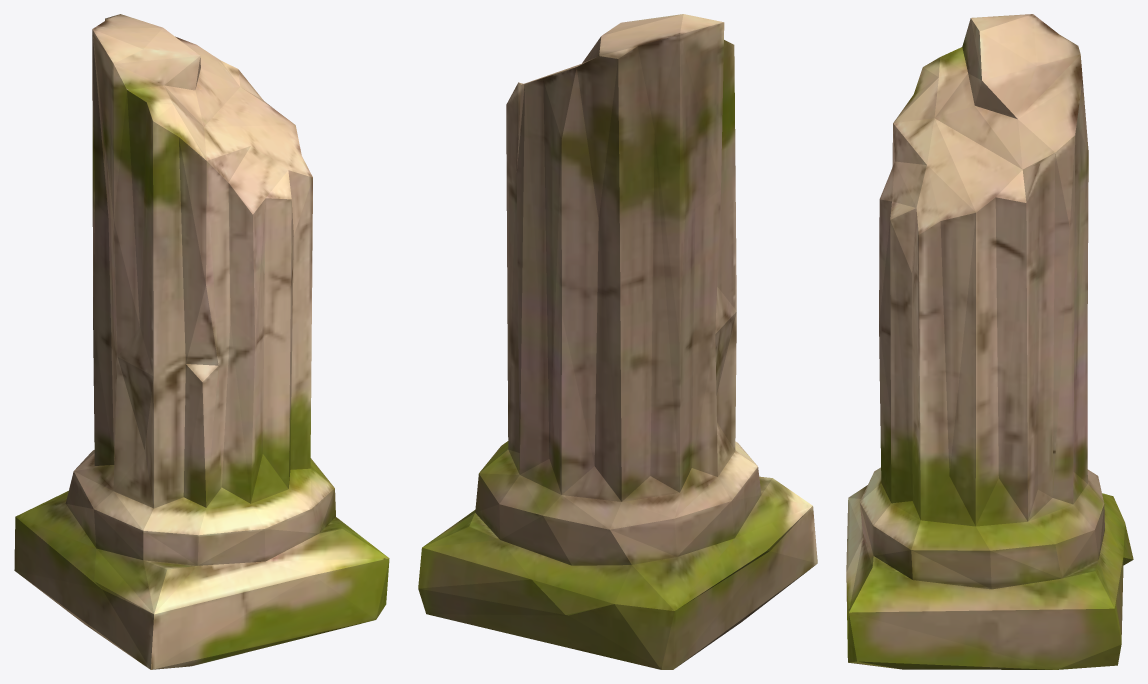
The model's file is ruin-pillar.glb.
The picture shows the model from 3 angles, left to right: view 1: azimuth 30°, elevation 25°; view 2: azimuth 150°, elevation 25°; view 3: azimuth 270°, elevation 25°; orthographic projection. The views are drawn at different scales.
Parts seen in each view (by area): view 1: ruin-pillar; view 2: ruin-pillar; view 3: ruin-pillar.
Boxes of the visible parts, x1=… form: ruin-pillar: x1=14, y1=14, x2=389, y2=669; ruin-pillar: x1=418, y1=14, x2=817, y2=669; ruin-pillar: x1=846, y1=14, x2=1133, y2=669.
Bounding box in the file's own units: 1.34 × 3 × 1.39.
Materials: 1 (1 with a texture image).
